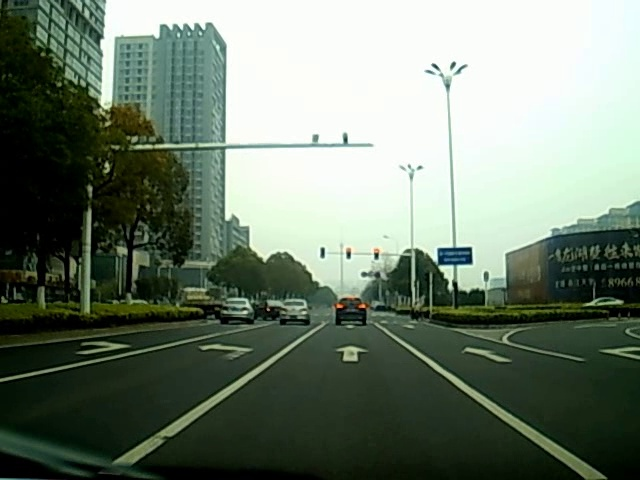Traffic_Light_stop: (345, 247, 353, 261), (372, 249, 380, 260)
